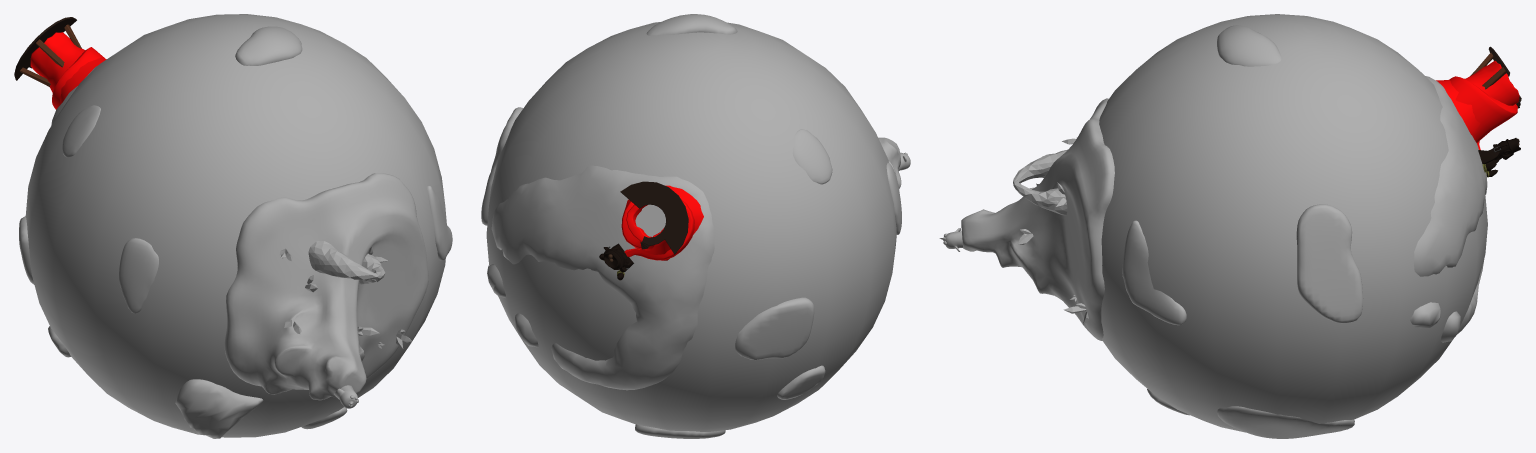
Rendered from planet v12.fbx.
3 renders of one model, left to right at view 1: azimuth 30°, elevation 25°; view 2: azimuth 150°, elevation 25°; view 3: azimuth 270°, elevation 25°, orthographic. The views are drawn at different scales.
Parts seen in each view (by area): view 1: Planet_reference, Ice_island, Volcano__, Island, Island3, Island5, Arc, Island6, Island1, Ice_spikes1, Island10; view 2: Planet_reference, Island, Volcano__, Island10, Island6, Island5, Island9, Island7, Lava_plane, Island8, Tiki_gate, Island3 (+1 smaller); view 3: Planet_reference, Ice_island, Island, Island7, Volcano__, Island1, Island4, Island5, Arc, Tiki_gate, Ice_spikes1.
Boxes of the visible parts, x1,y1,x2,y2 form: Planet_reference: [25, 14, 447, 437]; Ice_island: [224, 173, 428, 400]; Volcano__: [14, 17, 106, 109]; Island: [175, 379, 263, 438]; Island3: [119, 238, 158, 313]; Island5: [235, 26, 302, 65]; Arc: [308, 241, 385, 284]; Island6: [62, 105, 100, 157]; Island1: [427, 185, 452, 260]; Ice_spikes1: [279, 247, 411, 348]; Island10: [19, 216, 34, 284]; Planet_reference: [486, 22, 896, 431]; Island: [487, 165, 714, 390]; Volcano__: [620, 181, 703, 260]; Island10: [735, 297, 814, 359]; Island6: [792, 129, 832, 184]; Island5: [646, 14, 737, 35]; Island9: [777, 365, 825, 399]; Island7: [481, 107, 522, 225]; Lava_plane: [635, 204, 665, 236]; Island8: [635, 424, 725, 438]; Tiki_gate: [599, 243, 633, 280]; Island3: [886, 162, 901, 234]; Planet_reference: [1099, 14, 1487, 432]; Ice_island: [961, 98, 1114, 340]; Island: [1410, 76, 1487, 342]; Island7: [1296, 204, 1363, 323]; Volcano__: [1436, 46, 1521, 149]; Island1: [1122, 220, 1186, 325]; Island4: [1217, 406, 1354, 438]; Island5: [1217, 25, 1281, 66]; Arc: [1013, 149, 1067, 215]; Tiki_gate: [1478, 138, 1520, 177]; Ice_spikes1: [1017, 138, 1089, 324].
Bounding box in the file's own units: 18.59 × 18.9 × 25.69.
